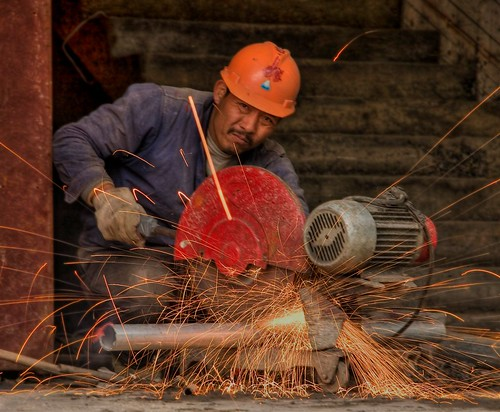person hardhat: (52, 39, 306, 323)
